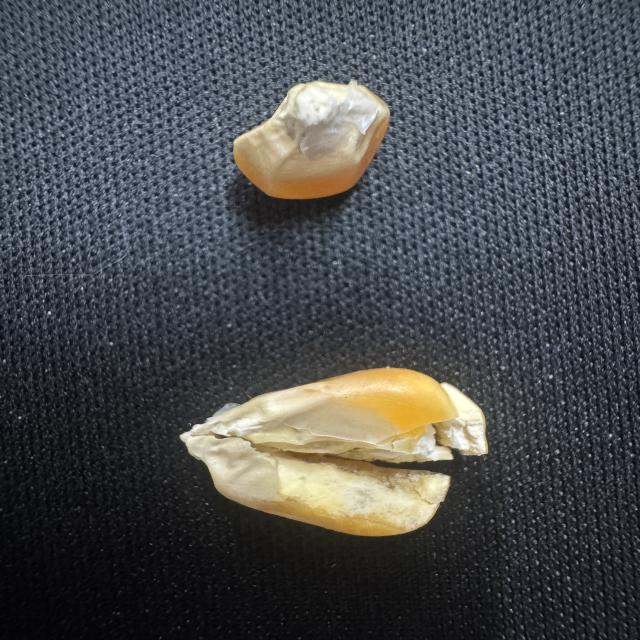Bad-Seed: (180, 359, 509, 540), (210, 72, 407, 220)
